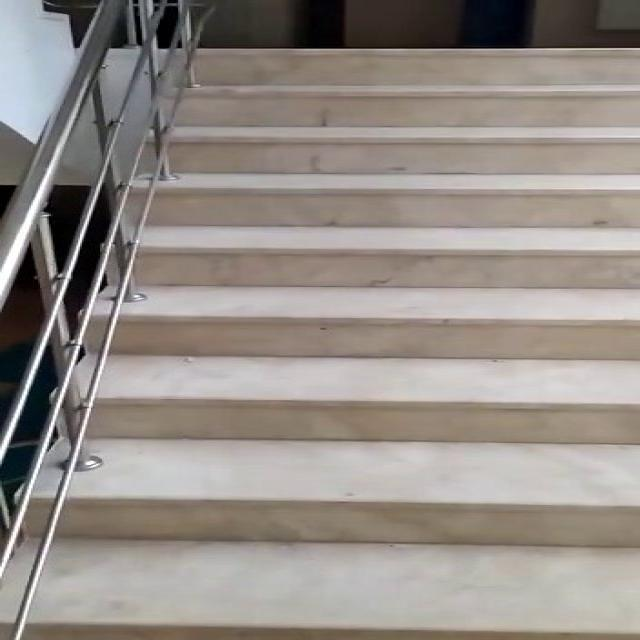stairs: (0, 44, 638, 639)
